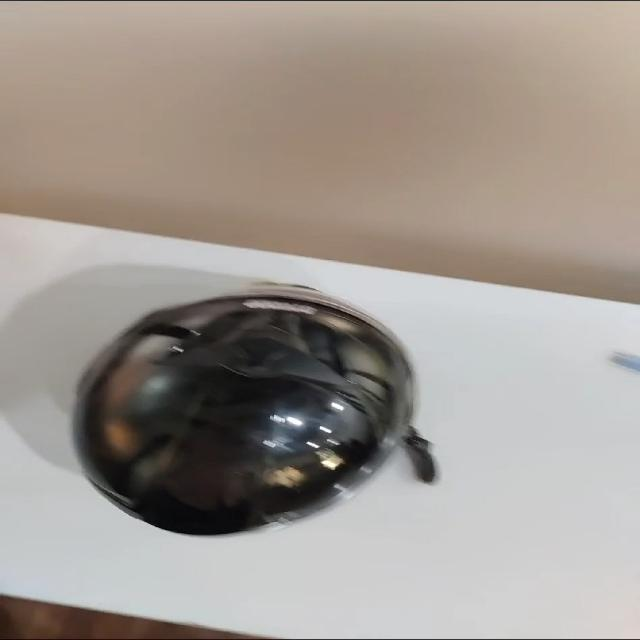helmet: (90, 288, 398, 557)
